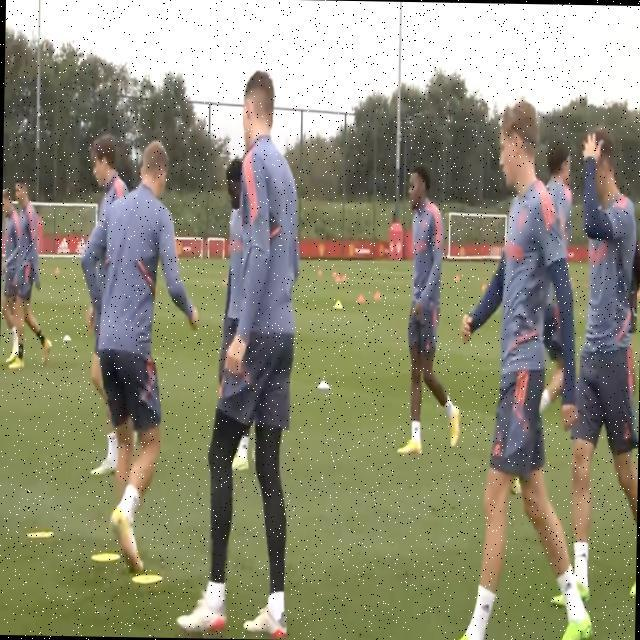Adidas: (57, 234, 71, 256), (75, 235, 87, 255), (493, 441, 504, 457)
